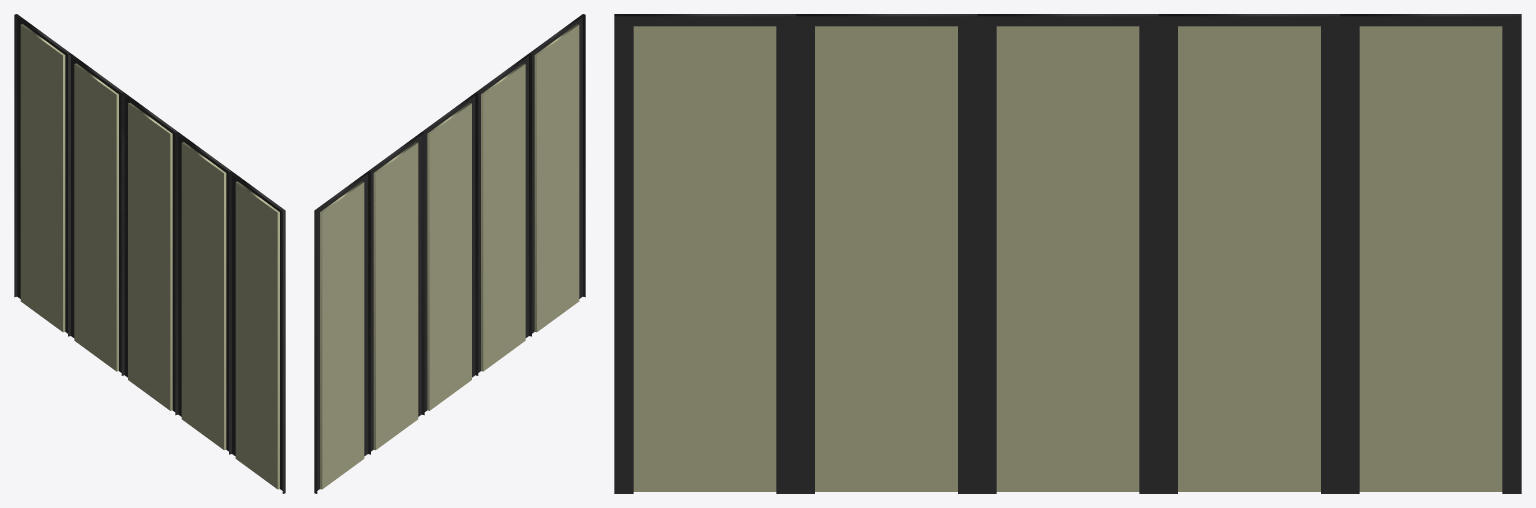
The model's file is DoorGUI.fbx.
The picture shows the model from 3 angles, left to right: view 1: azimuth 30°, elevation 25°; view 2: azimuth 150°, elevation 25°; view 3: azimuth 270°, elevation 25°; orthographic projection. The views are drawn at different scales.
Parts seen in each view (by area): view 1: Door_Image_GUI; view 2: Door_Image_GUI; view 3: Door_Image_GUI.
Boxes of the visible parts, x1,y1,x2,y2 form: Door_Image_GUI: (14,14,285,493); Door_Image_GUI: (314,14,585,493); Door_Image_GUI: (614,14,1521,493).
Bounding box in the file's own units: 0.9426 × 86.52 × 149.
